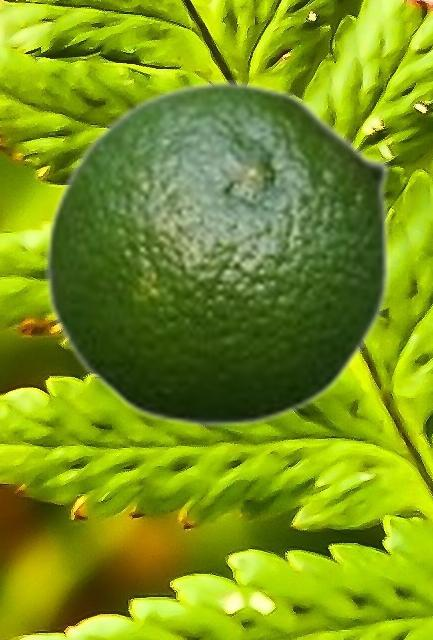calamansi: (44, 80, 392, 428)
